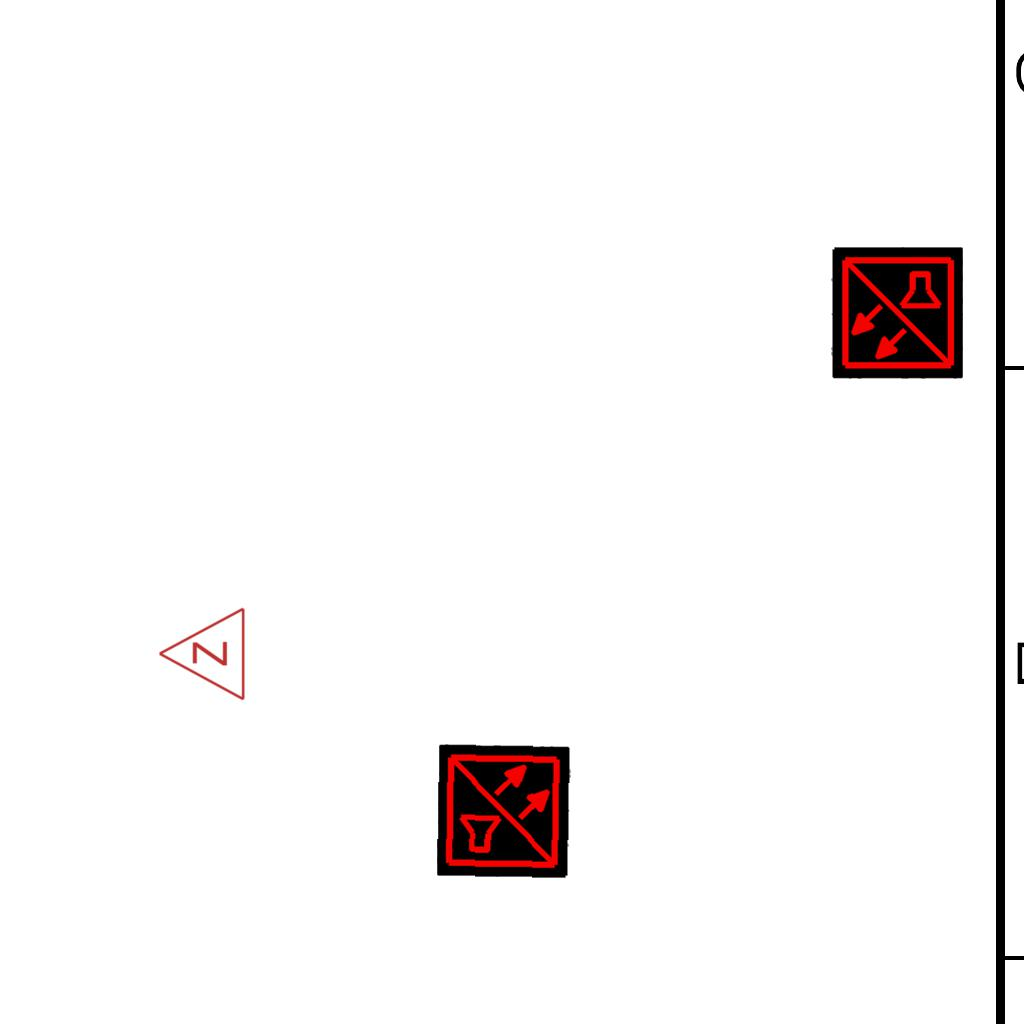OKW_Multisensormelder_(Kombination_optischer_Rauch-Kahlenmonoxid_Waerme-Melder): (436, 743, 572, 879), (831, 247, 963, 379)
Zimmersignalleuchte: (152, 606, 252, 704)
